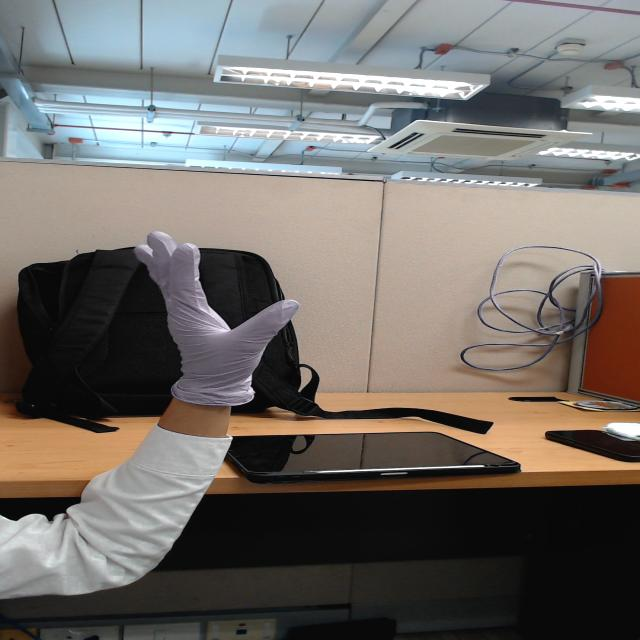glove: (74, 225, 363, 382)
